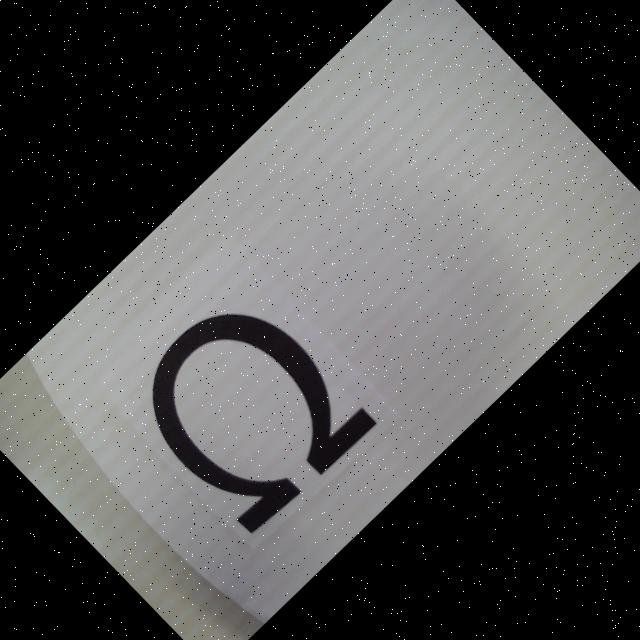OMEGA: (117, 278, 378, 540)
